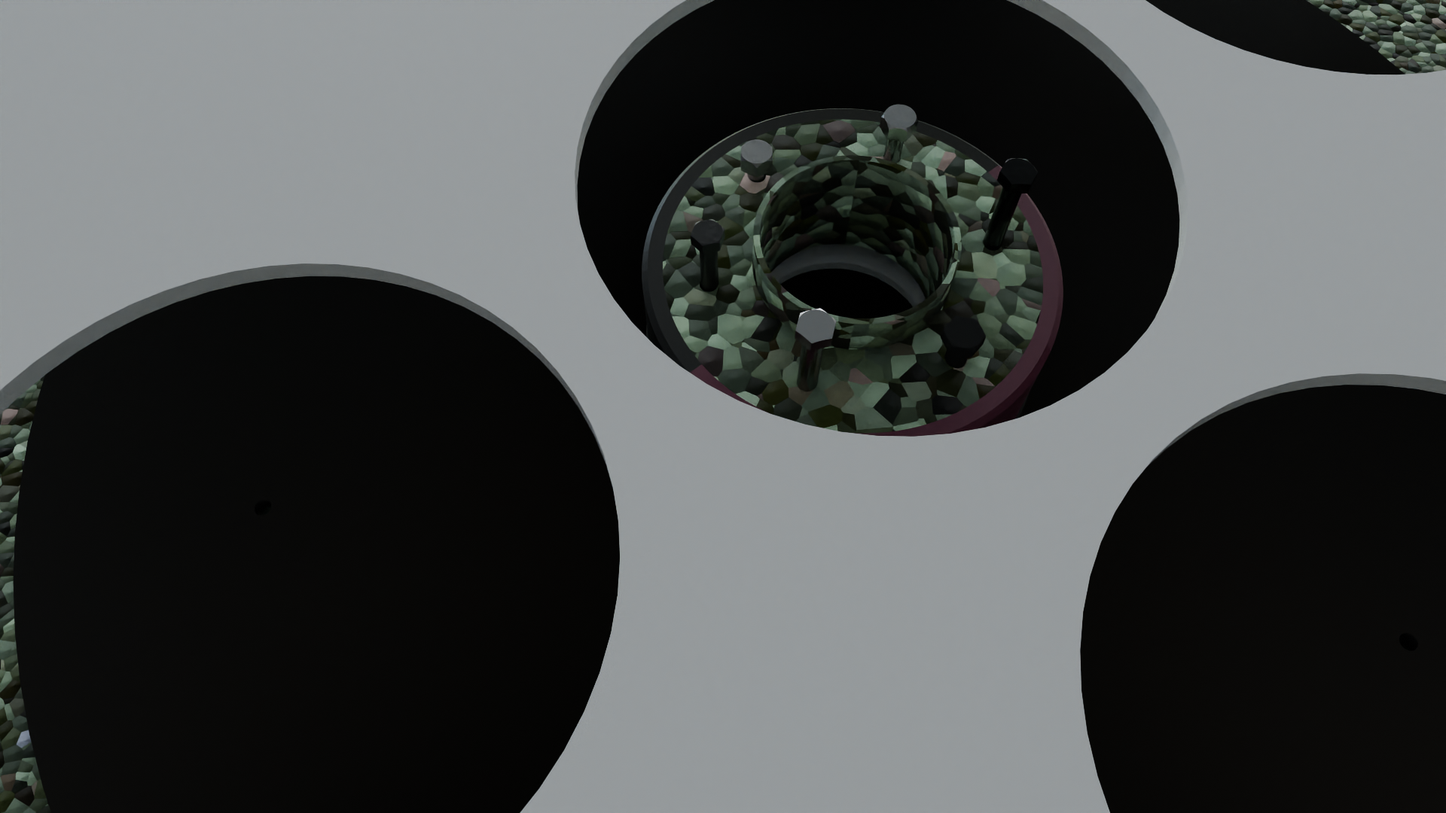bolt: (943, 316, 986, 350), (796, 309, 836, 343), (1000, 158, 1039, 184), (881, 105, 918, 132), (741, 139, 773, 168), (691, 219, 725, 246)
